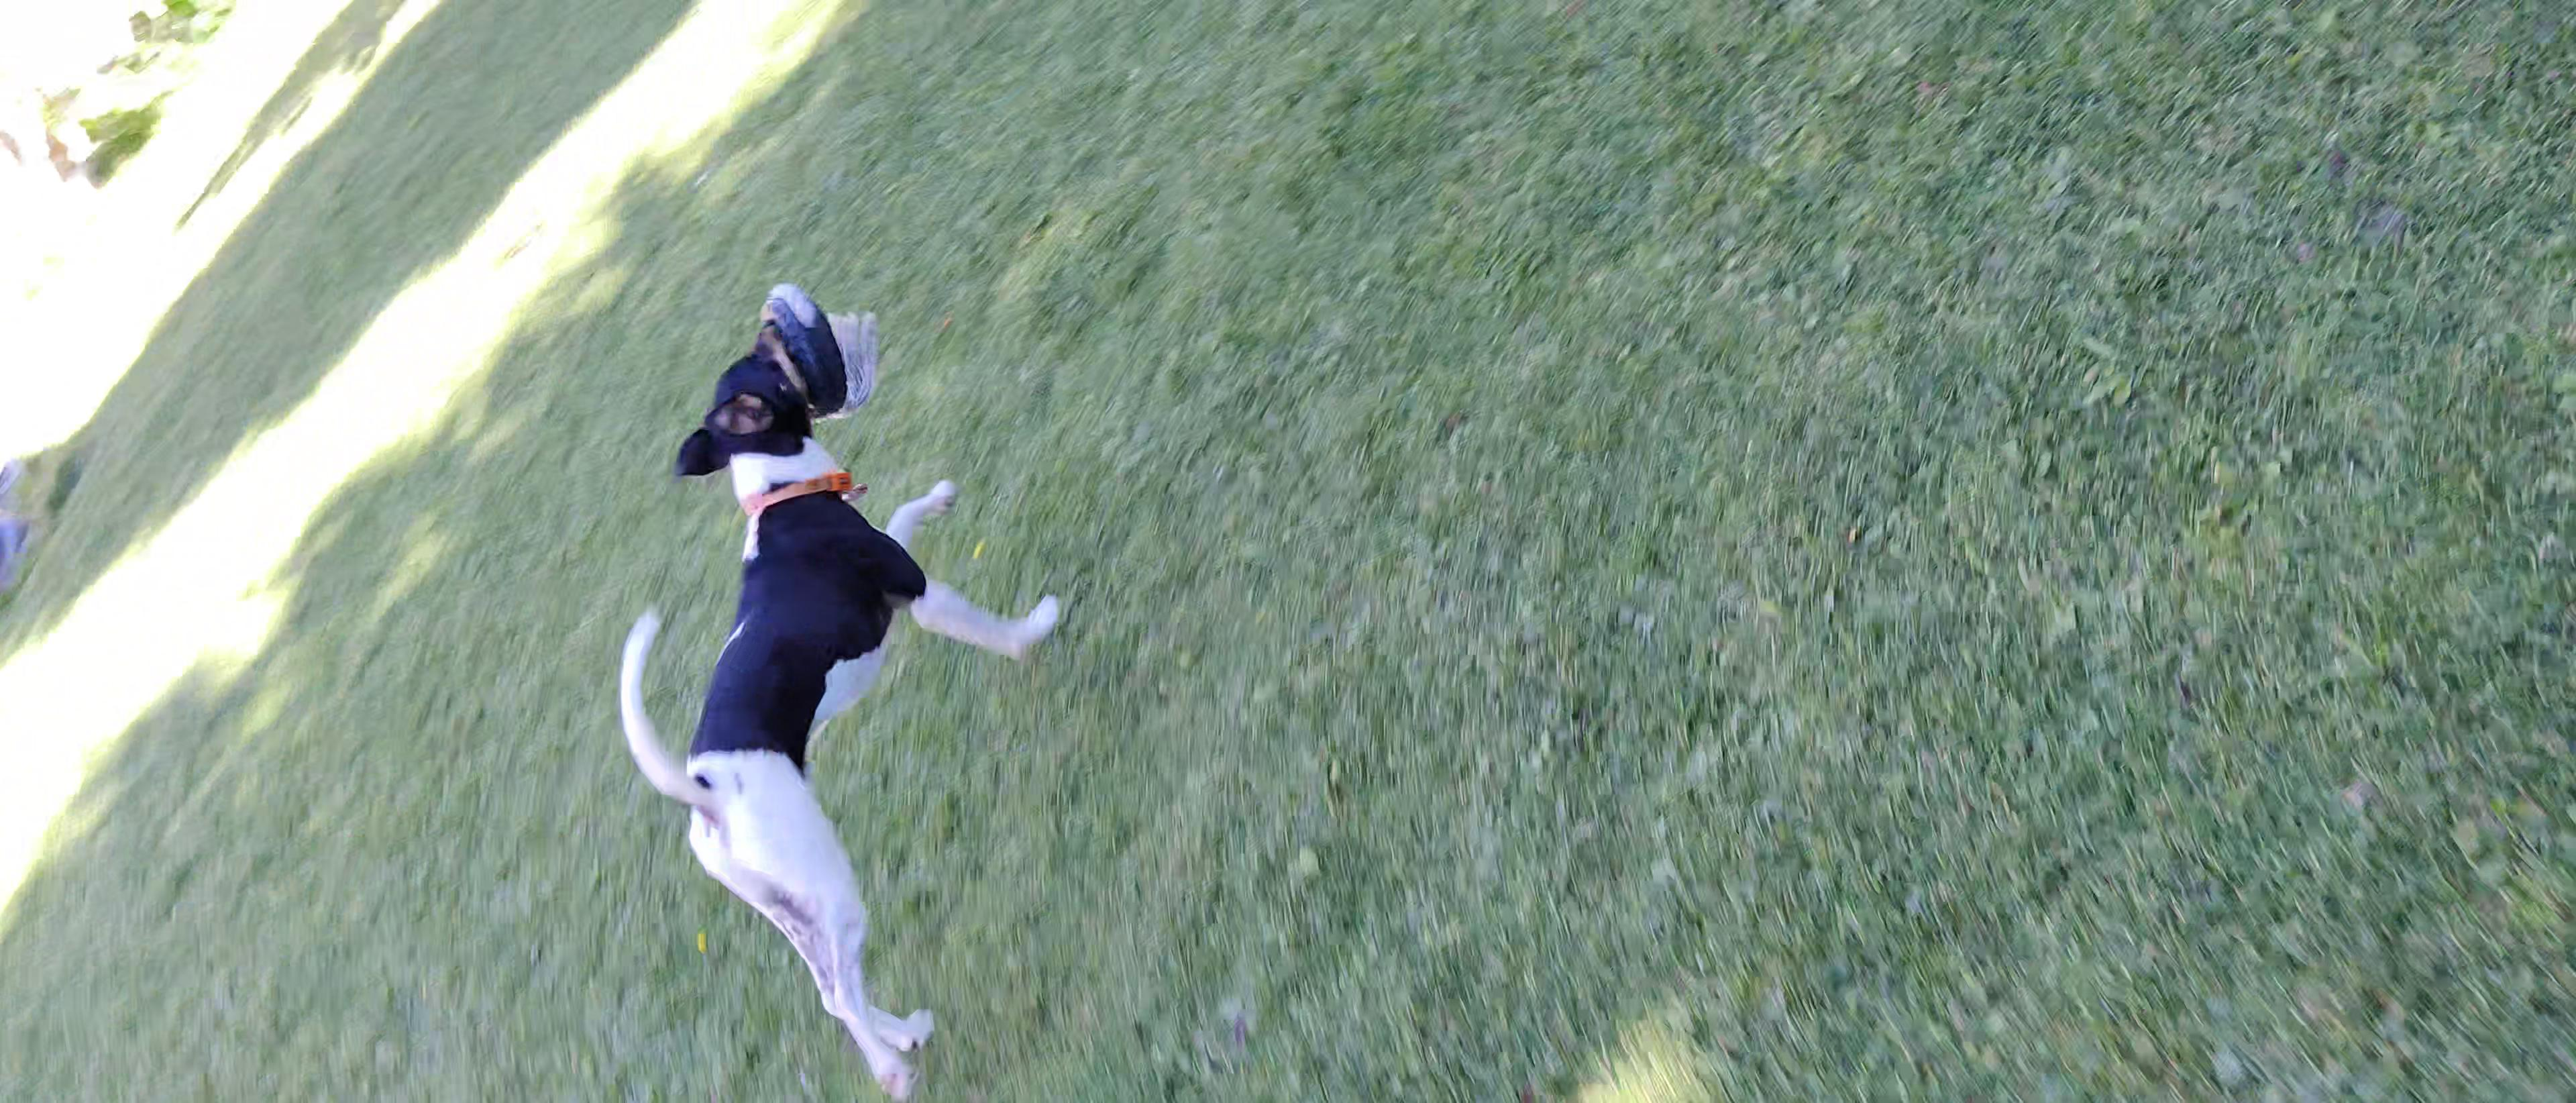Dog: (611, 317, 1063, 1100)
